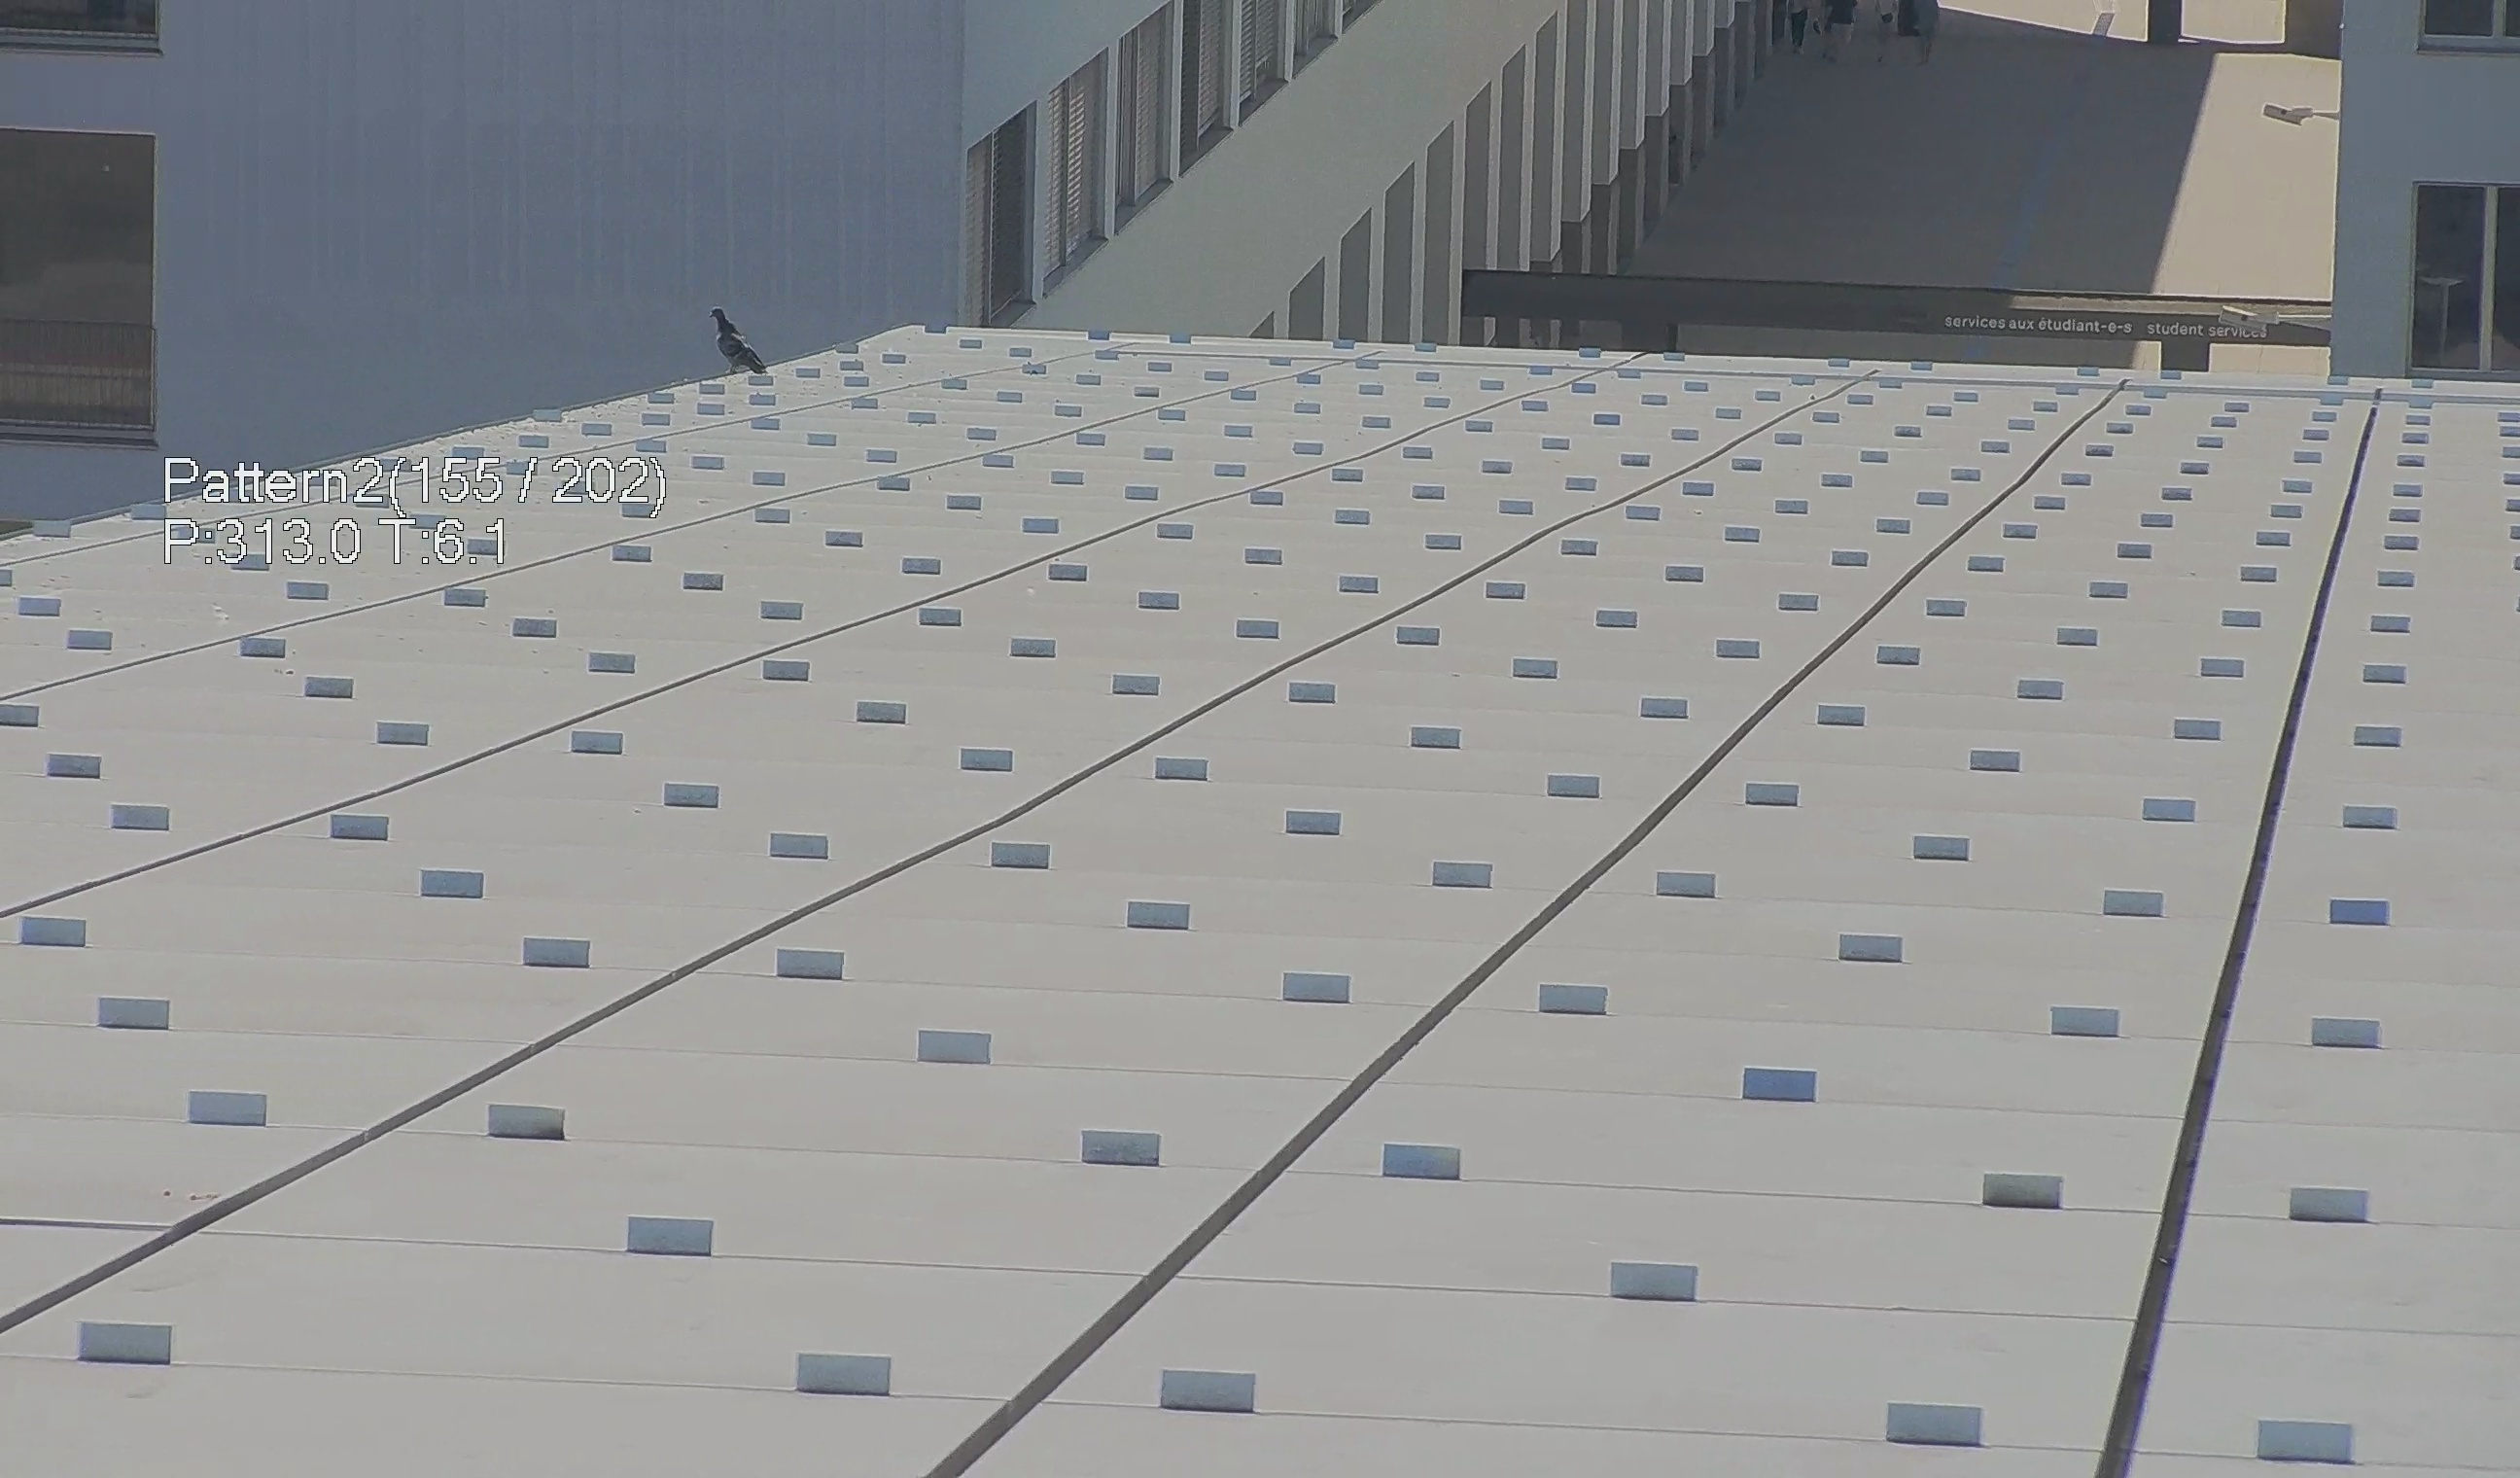Pigeon: (691, 297, 774, 377)
